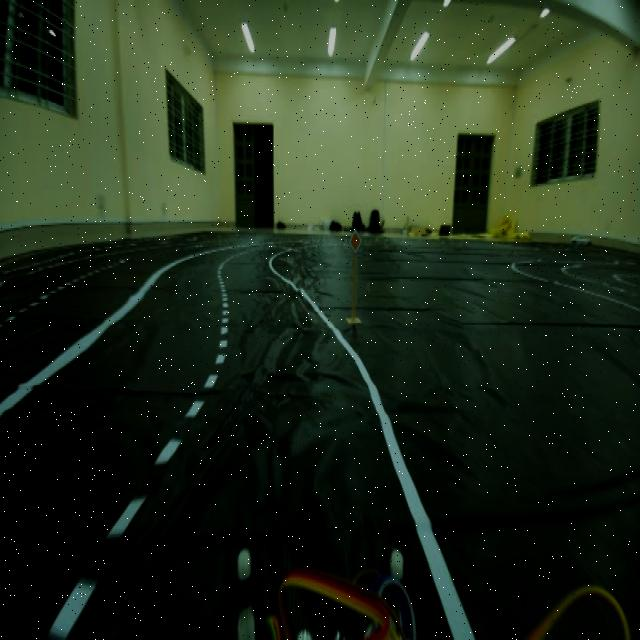priority: (344, 226, 365, 257)
